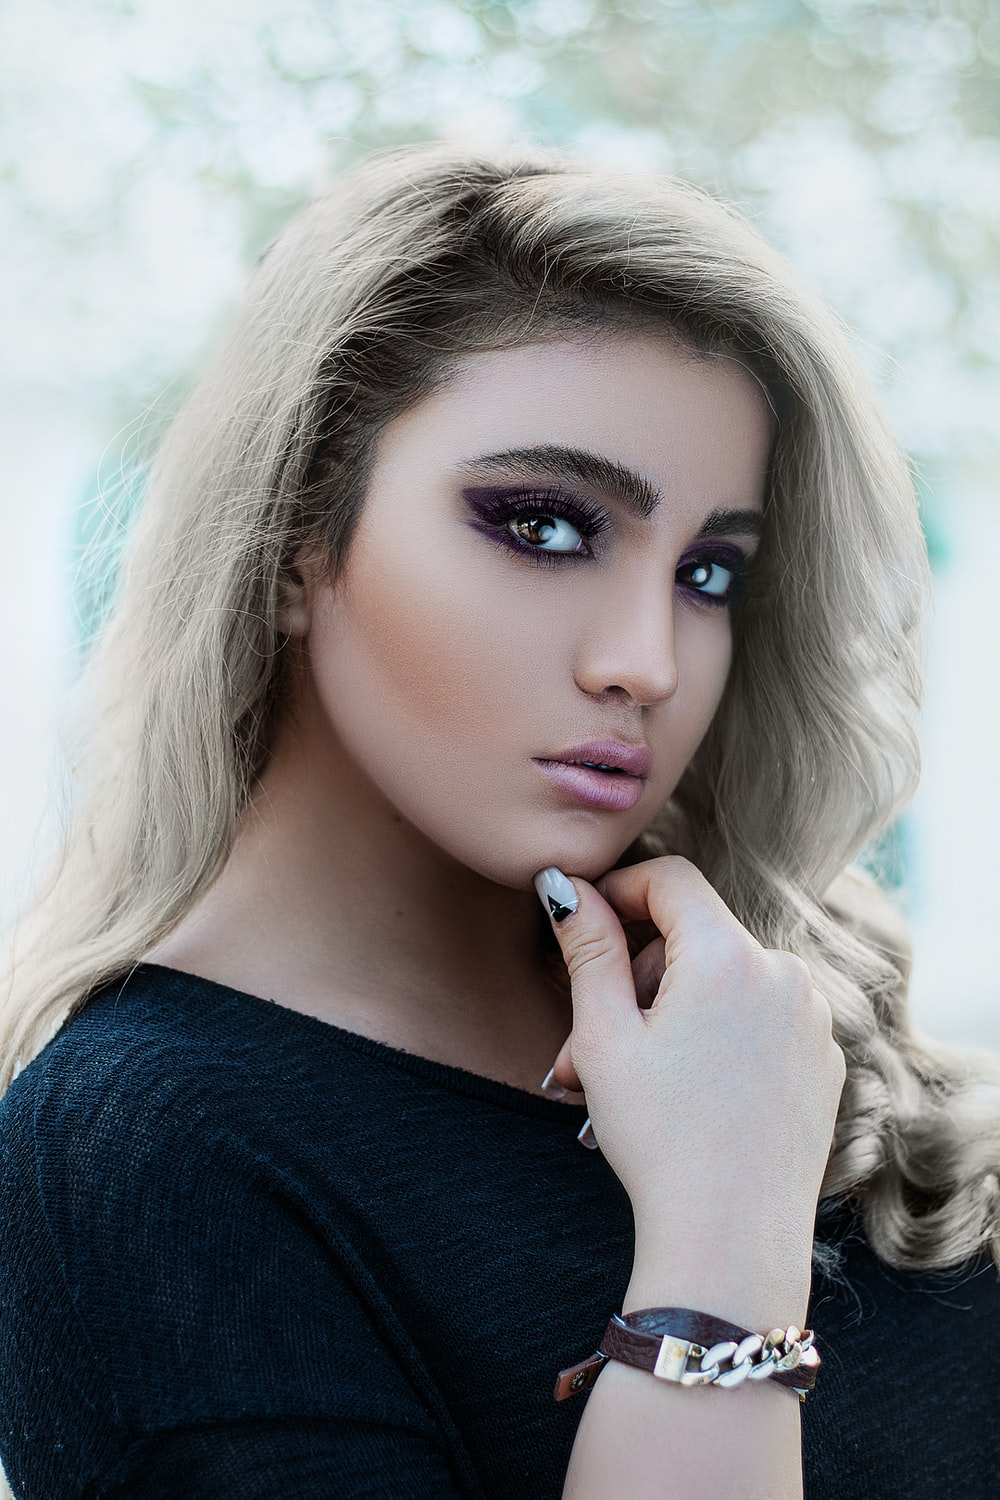face: (360, 295, 794, 890)
